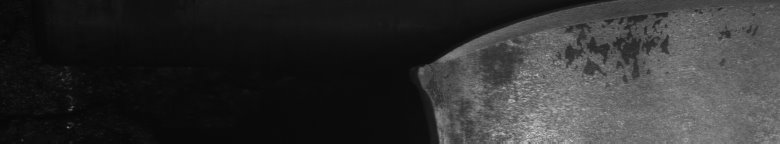kb: (399, 0, 757, 144)
